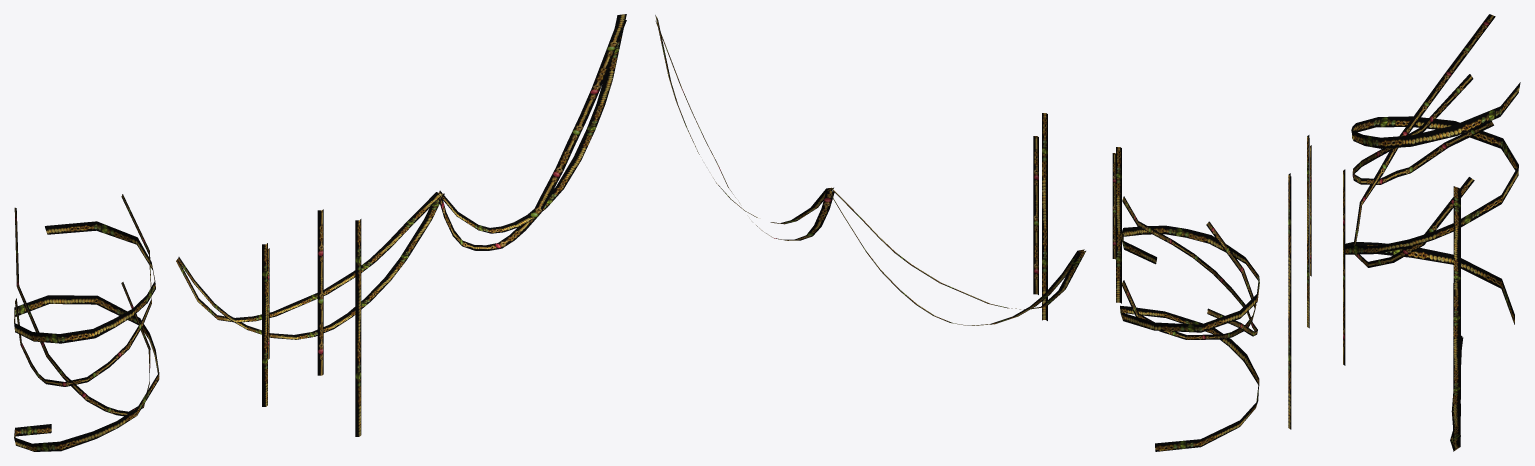
File: d_1012_deco.FBX
3 views of the same model, side by side, from view 1: azimuth 30°, elevation 25°; view 2: azimuth 150°, elevation 25°; view 3: azimuth 270°, elevation 25° (orthographic). The views are drawn at different scales.
Parts seen in each view (by area): view 1: 1012_deco01, 1012_deco03, 1012_deco02; view 2: 1012_deco03, 1012_deco02, 1012_deco01; view 3: 1012_deco03, 1012_deco02, 1012_deco01.
Boxes of the visible parts, x1=… form: 1012_deco01: x1=176, y1=14, x2=626, y2=339; 1012_deco03: x1=14, y1=194, x2=159, y2=451; 1012_deco02: x1=262, y1=209, x2=361, y2=436; 1012_deco03: x1=1120, y1=196, x2=1259, y2=451; 1012_deco02: x1=1033, y1=113, x2=1121, y2=320; 1012_deco01: x1=655, y1=15, x2=1085, y2=325; 1012_deco03: x1=1345, y1=14, x2=1520, y2=324; 1012_deco02: x1=1288, y1=135, x2=1345, y2=429; 1012_deco01: x1=1450, y1=186, x2=1463, y2=451.
Bounding box in the file's own units: 2362 × 1122 × 663.
